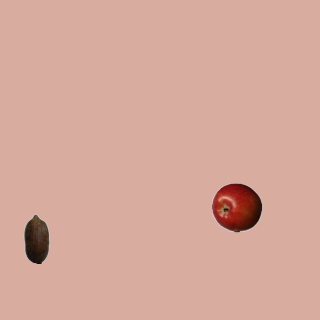Apple Braeburn: (211, 182, 261, 232)
Nut Pecan: (11, 213, 61, 263)
